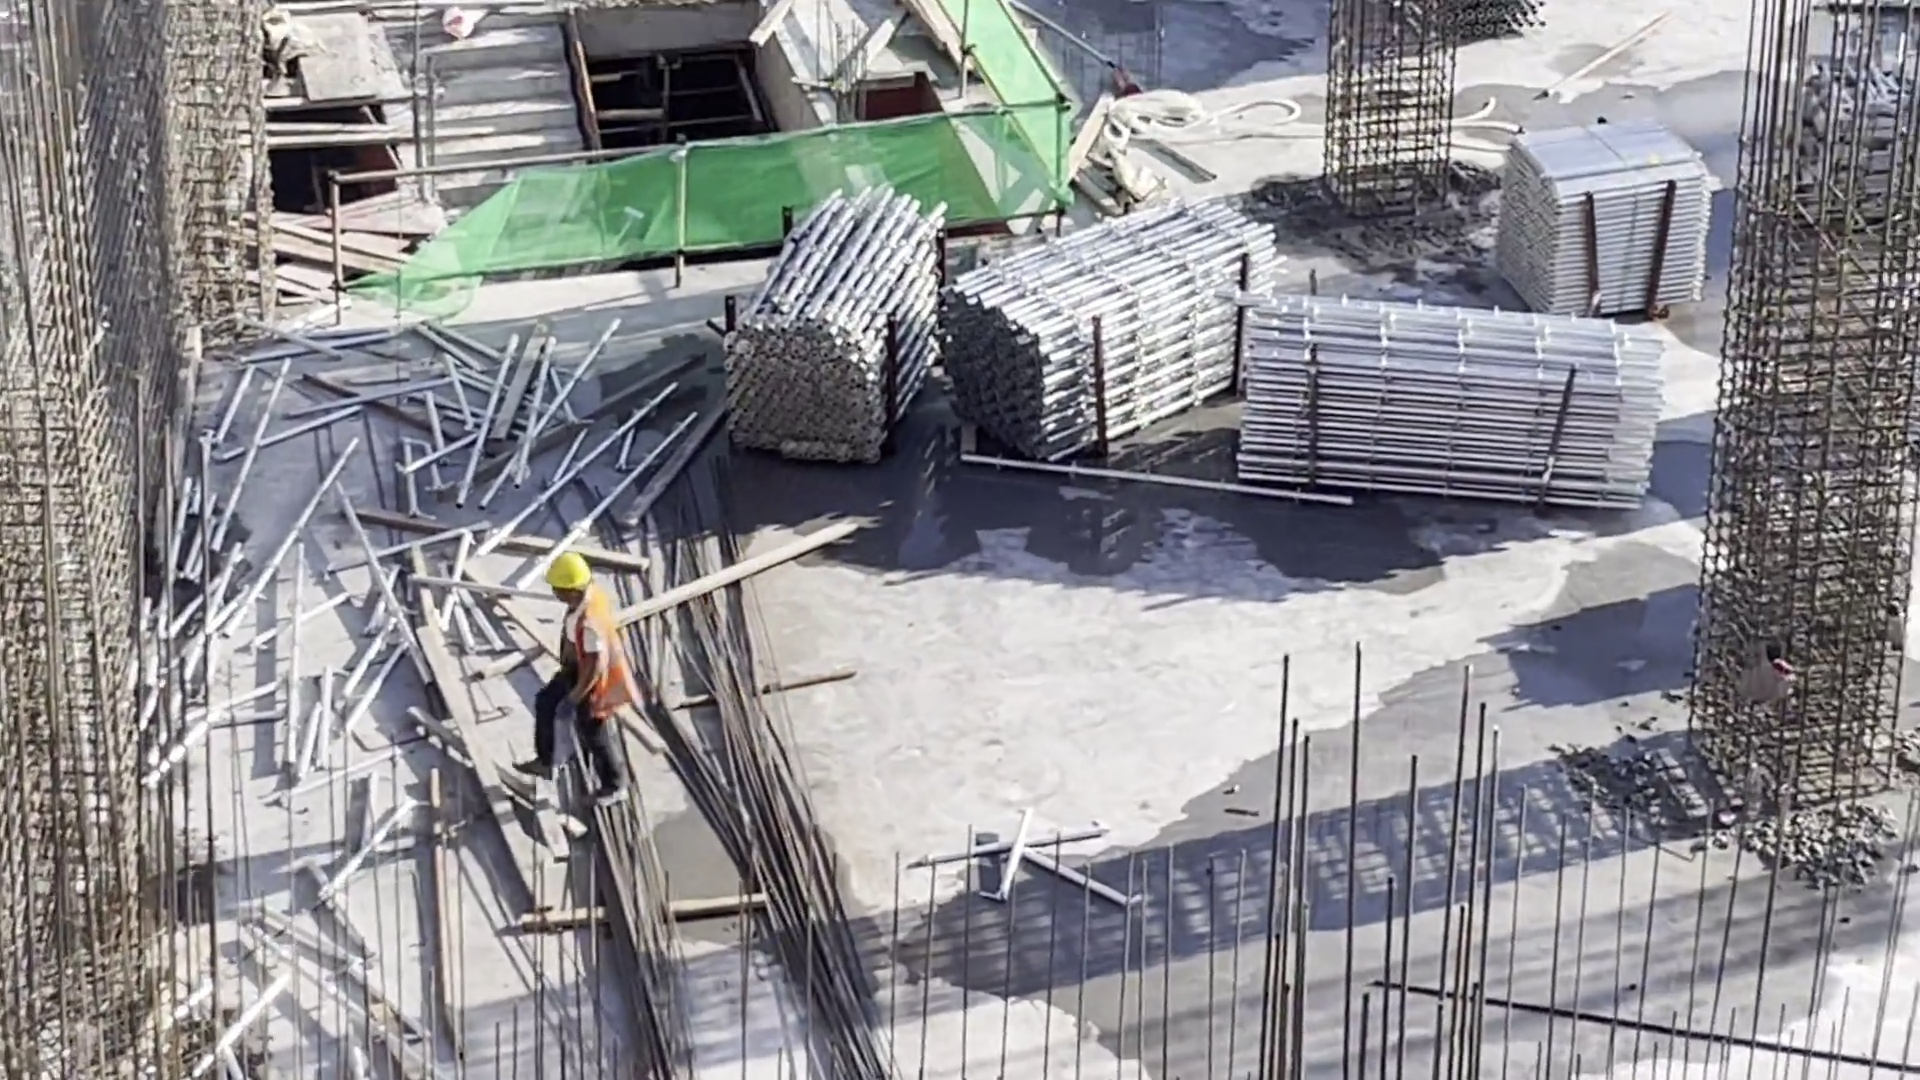helmet: (539, 556, 598, 590)
person: (515, 550, 627, 810)
rebar: (683, 594, 886, 1080), (581, 799, 714, 1080)
scaffold: (1225, 305, 1636, 489), (977, 221, 1227, 429), (771, 209, 931, 432), (1516, 159, 1700, 305)
vest: (547, 602, 620, 717)
